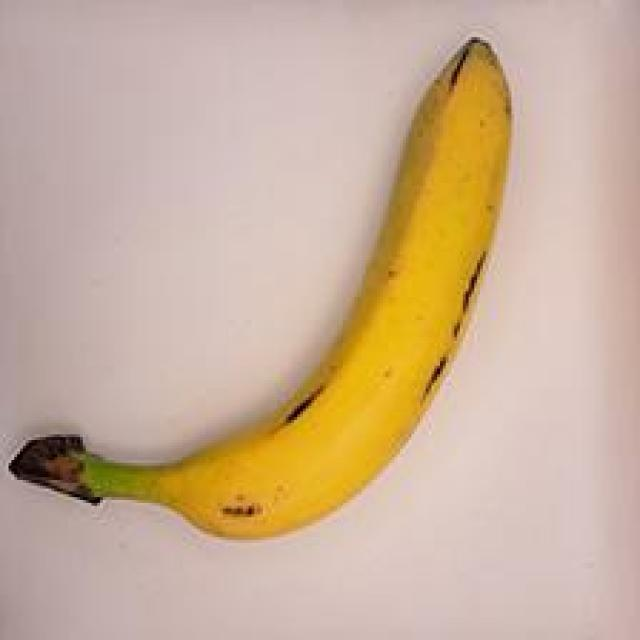Ripe: (0, 22, 529, 549)
